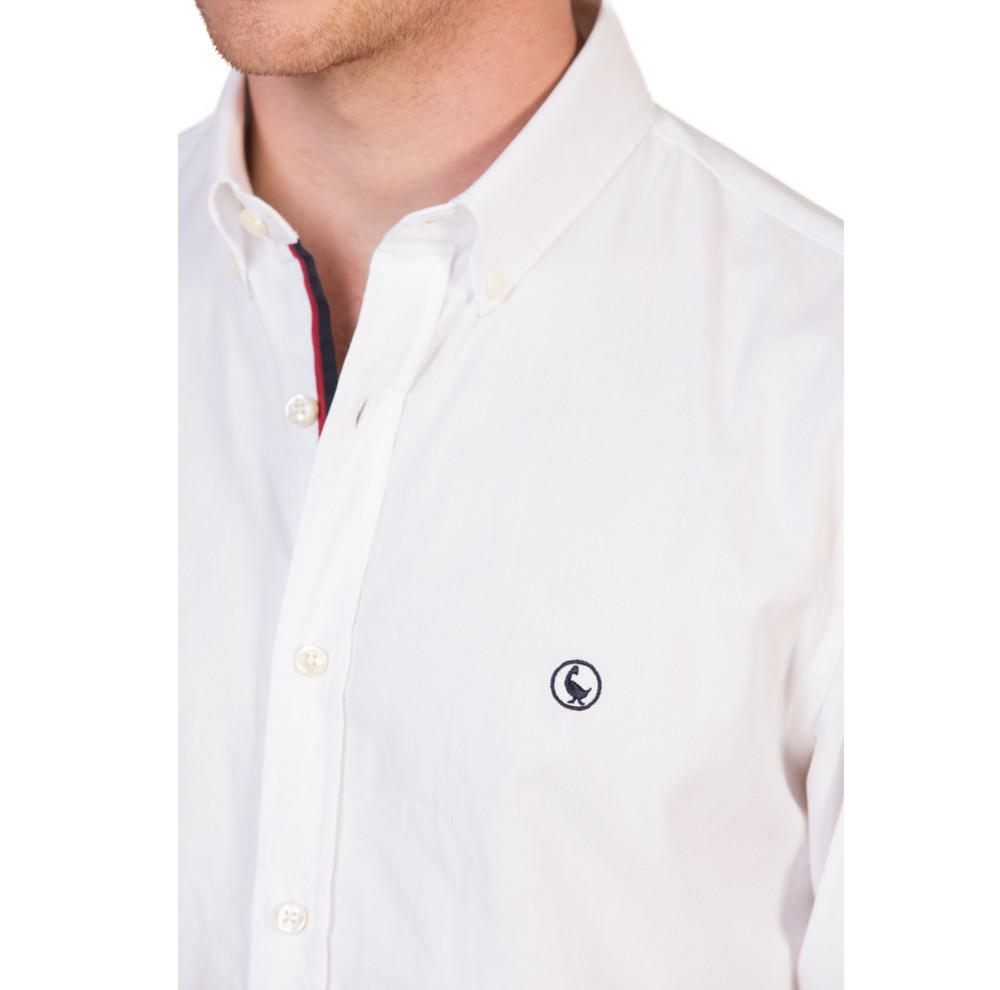teeshirt: (152, 104, 859, 990)
